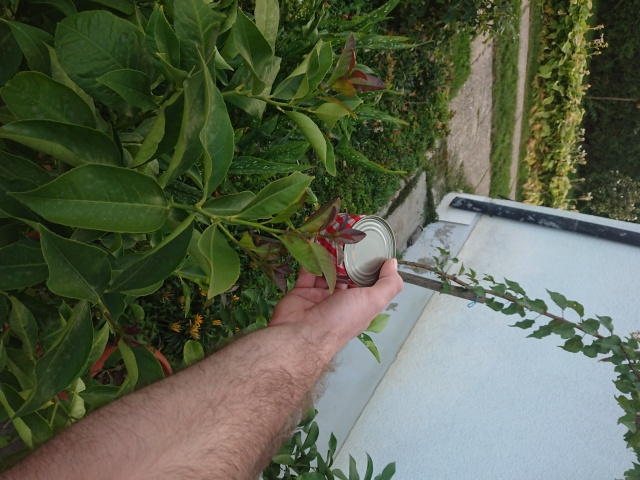Podravka Luncheon Meat 150g: (311, 210, 398, 289)
